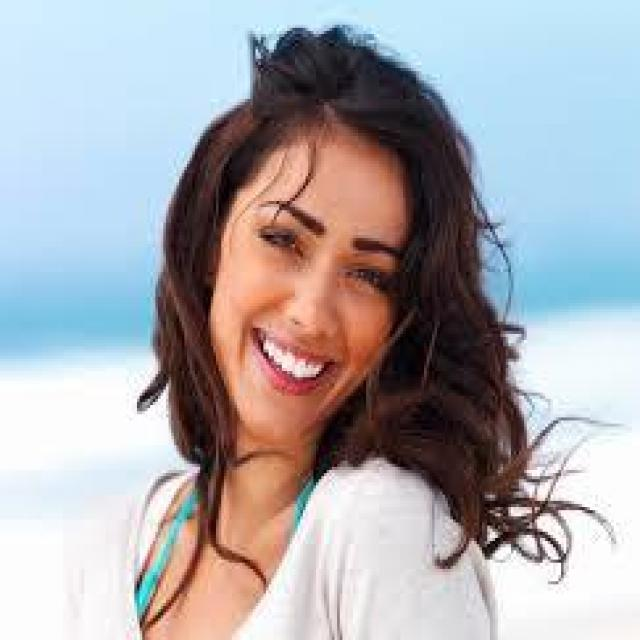person: (108, 25, 508, 637)
